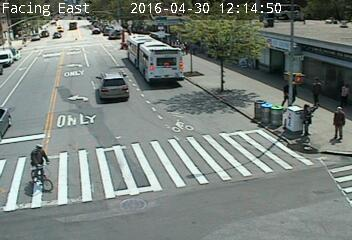neg: (157, 164, 192, 211), (216, 139, 241, 172), (29, 48, 51, 78), (94, 20, 115, 49), (245, 46, 264, 71), (193, 35, 212, 59), (57, 93, 75, 117), (69, 49, 86, 73), (291, 27, 308, 51), (105, 61, 122, 83), (119, 110, 135, 132), (156, 68, 172, 88), (54, 24, 69, 44), (192, 95, 207, 115), (328, 18, 341, 36), (81, 17, 94, 34), (81, 96, 93, 112), (234, 49, 245, 63), (3, 58, 13, 71)
pos: (21, 142, 52, 183), (293, 101, 322, 140), (323, 103, 350, 139), (305, 76, 330, 109), (335, 80, 351, 105), (184, 40, 194, 54), (19, 33, 28, 45)
